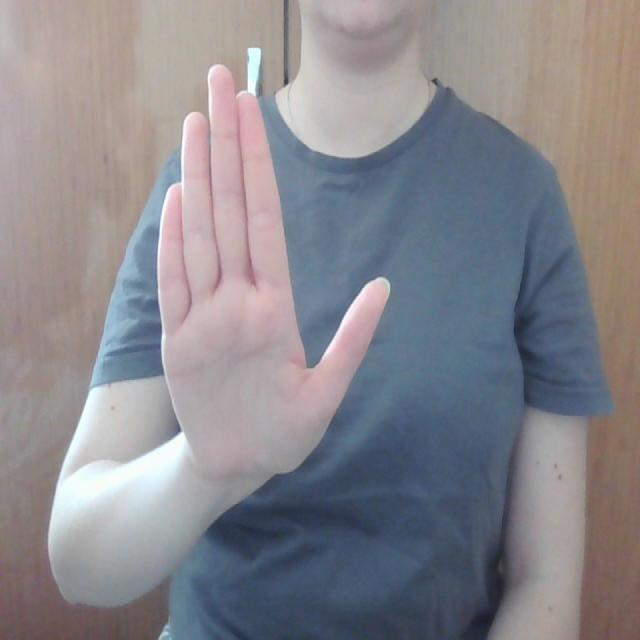Dur: (111, 62, 398, 484)
